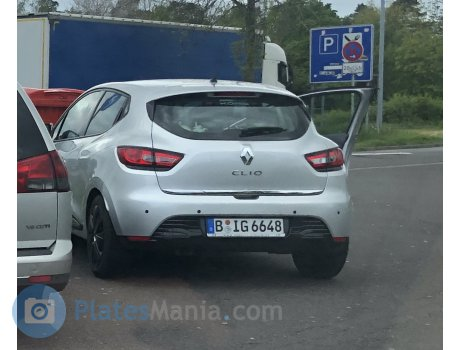License Plates: (207, 215, 286, 233)
